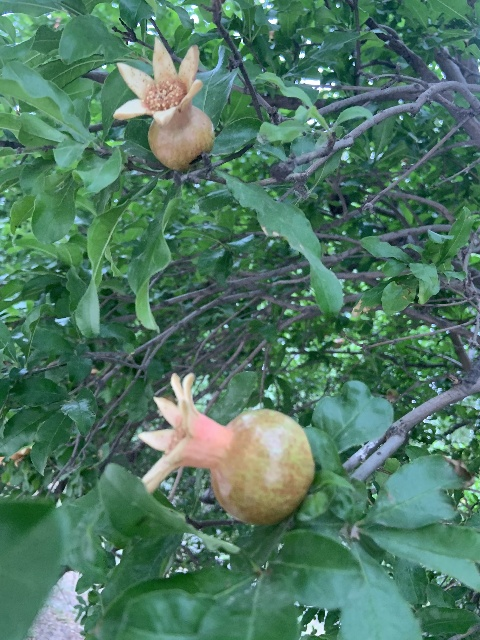early-fruit: (137, 371, 314, 526), (112, 36, 213, 170)
